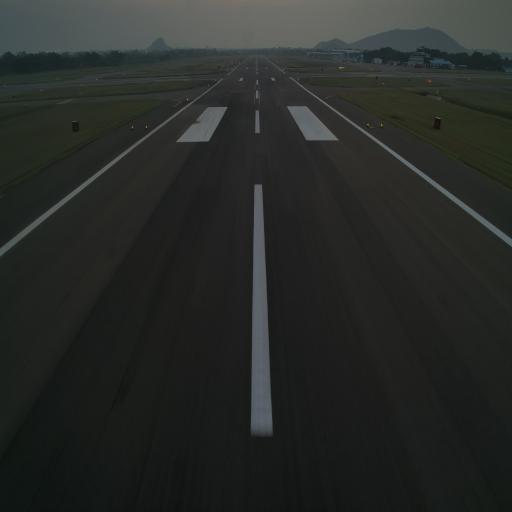on: (365, 121, 370, 128), (130, 123, 134, 130), (380, 122, 384, 128), (144, 124, 148, 129)
